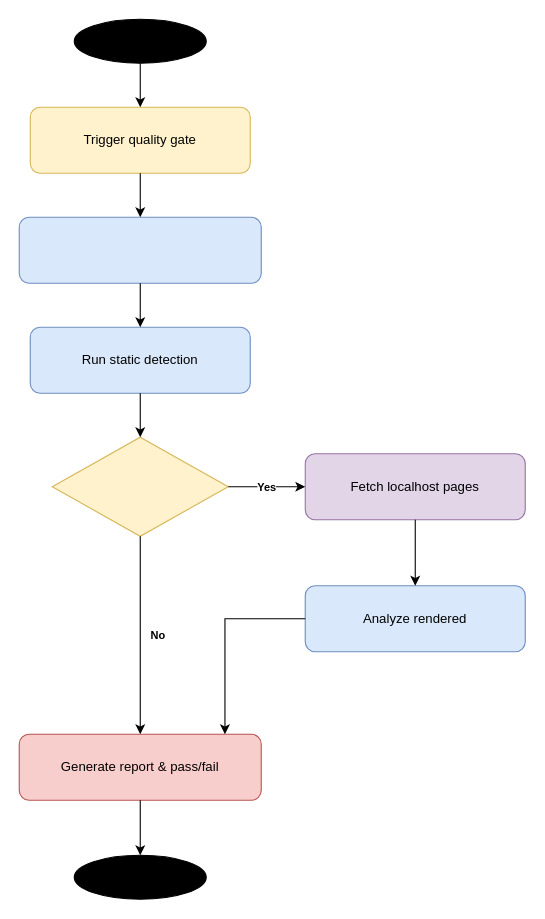
This 545x919 diagram has some shape labels left out. The shapes that lost their labels are listed below. From the top down, each one's centre as x and y in pixels, then its label:
the point at 139,249: Load Impeccable skill & WASM
the point at 139,486: Dev server up?
